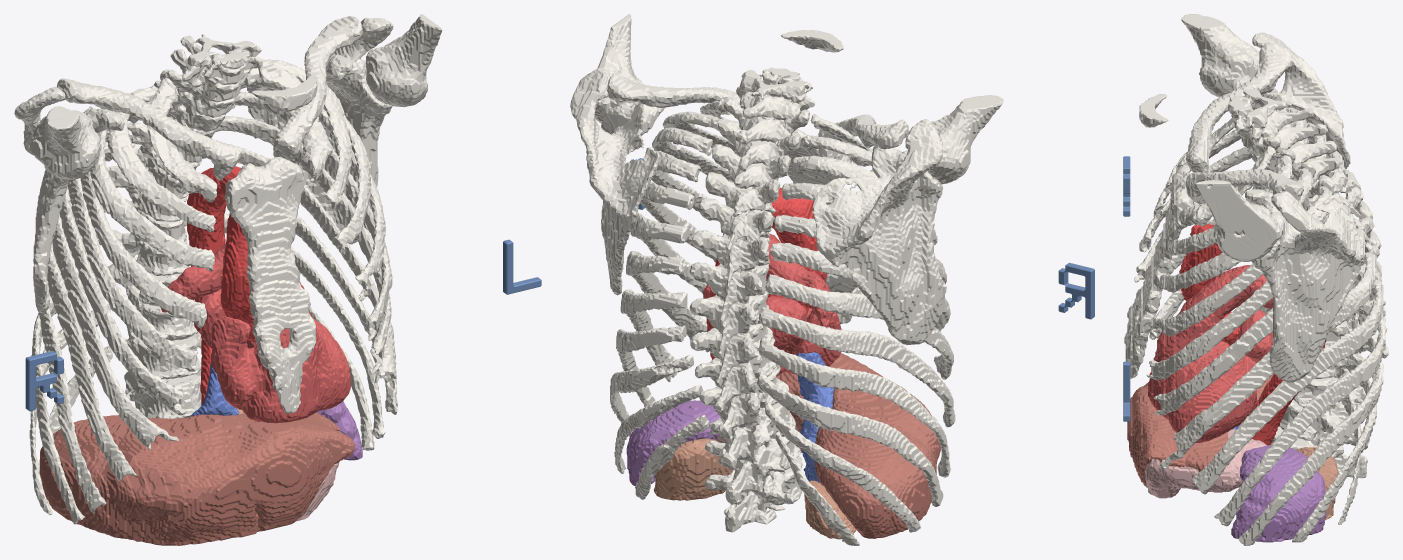
The model's file is chest.glb.
3 views of the same model, side by side, from view 1: azimuth 30°, elevation 25°; view 2: azimuth 150°, elevation 25°; view 3: azimuth 270°, elevation 25° (orthographic). The views are drawn at different scales.
Visible parts, largest first — view 1: bones, liver, spine, heart, aorta, label_R, spleen, inferior_vena_cava, label_L; view 2: bones, spine, liver, heart, kidney_left, spleen, aorta, inferior_vena_cava, label_R, kidney_right; view 3: bones, spine, heart, spleen, liver, stomach, aorta, kidney_left, label_L, label_R.
Boxes of the visible parts, left/top/right/bottom form: bones: left=14, top=14, right=442, bottom=524; liver: left=39, top=412, right=355, bottom=545; spine: left=107, top=34, right=262, bottom=418; heart: left=161, top=244, right=351, bottom=423; aorta: left=187, top=166, right=255, bottom=408; label_R: left=25, top=351, right=63, bottom=411; spleen: left=316, top=401, right=362, bottom=460; inferior_vena_cava: left=189, top=363, right=238, bottom=417; label_L: left=503, top=239, right=541, bottom=294; bones: left=570, top=14, right=1003, bottom=545; spine: left=689, top=67, right=814, bottom=532; liver: left=776, top=353, right=940, bottom=538; heart: left=703, top=233, right=841, bottom=376; kidney_left: left=654, top=438, right=733, bottom=500; spleen: left=626, top=400, right=719, bottom=485; aorta: left=706, top=187, right=827, bottom=359; inferior_vena_cava: left=797, top=352, right=833, bottom=482; label_R: left=1058, top=262, right=1094, bottom=319; kidney_right: left=804, top=480, right=856, bottom=539; bones: left=1124, top=14, right=1385, bottom=545; spine: left=1228, top=89, right=1388, bottom=478; heart: left=1148, top=265, right=1272, bottom=442; spleen: left=1231, top=445, right=1326, bottom=542; liver: left=1127, top=373, right=1274, bottom=487; stomach: left=1145, top=429, right=1266, bottom=498; aorta: left=1179, top=223, right=1326, bottom=445; kidney_left: left=1296, top=447, right=1338, bottom=520; label_L: left=1123, top=361, right=1130, bottom=421; label_R: left=1123, top=156, right=1130, bottom=216.
Bounding box in the file's own units: 0.4521 × 0.3638 × 0.2302.
